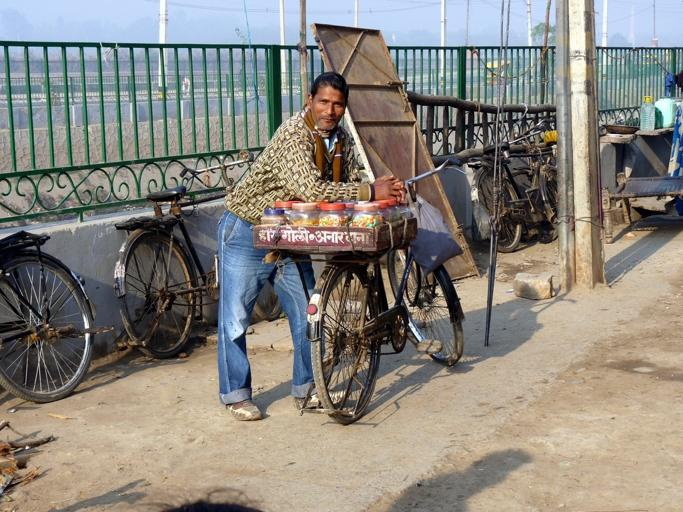non-vehicle: (288, 159, 469, 418), (111, 150, 289, 361)
